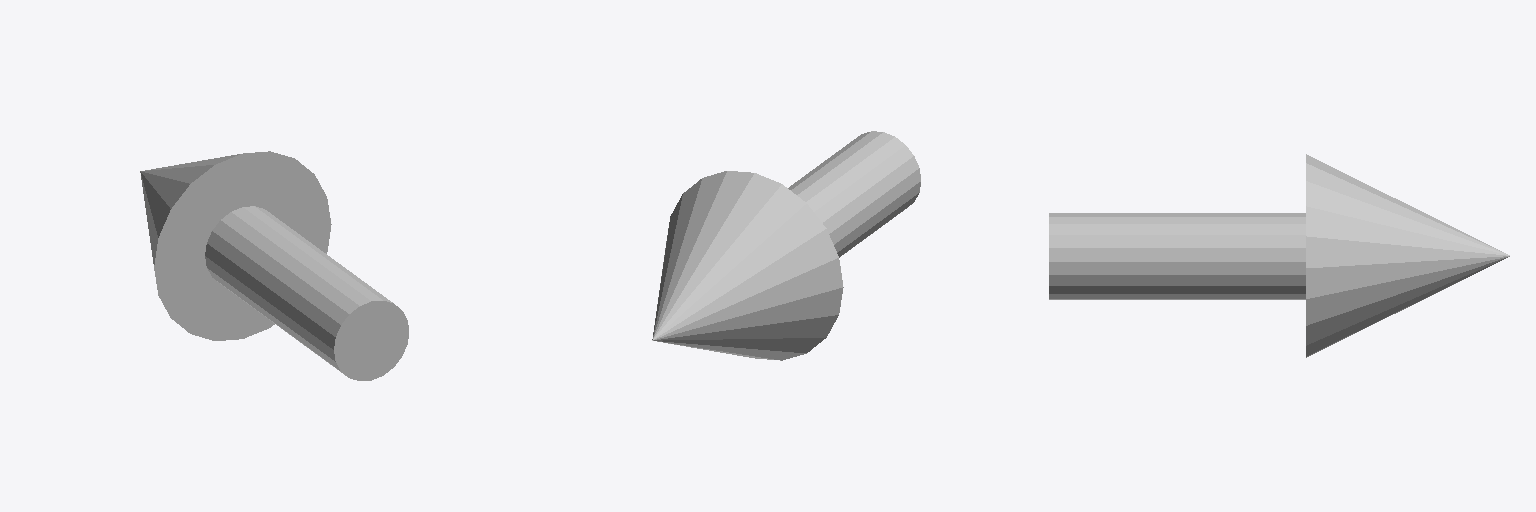
The model's file is Arrow_straight_Zneg.obj.
3 views of the same model, side by side, from view 1: azimuth 30°, elevation 25°; view 2: azimuth 150°, elevation 25°; view 3: azimuth 270°, elevation 25° (orthographic).
Parts seen in each view (by area): view 1: pCone1, pCylinder1; view 2: pCone1, pCylinder1; view 3: pCylinder1, pCone1.
Boxes of the visible parts, x1=… form: pCone1: x1=140, y1=151, x2=331, y2=340; pCylinder1: x1=205, y1=206, x2=408, y2=380; pCone1: x1=652, y1=171, x2=843, y2=360; pCylinder1: x1=788, y1=131, x2=920, y2=257; pCylinder1: x1=1049, y1=213, x2=1305, y2=299; pCone1: x1=1306, y1=154, x2=1509, y2=357.
Size of the model in its own units: 2 by 2 by 4.52.